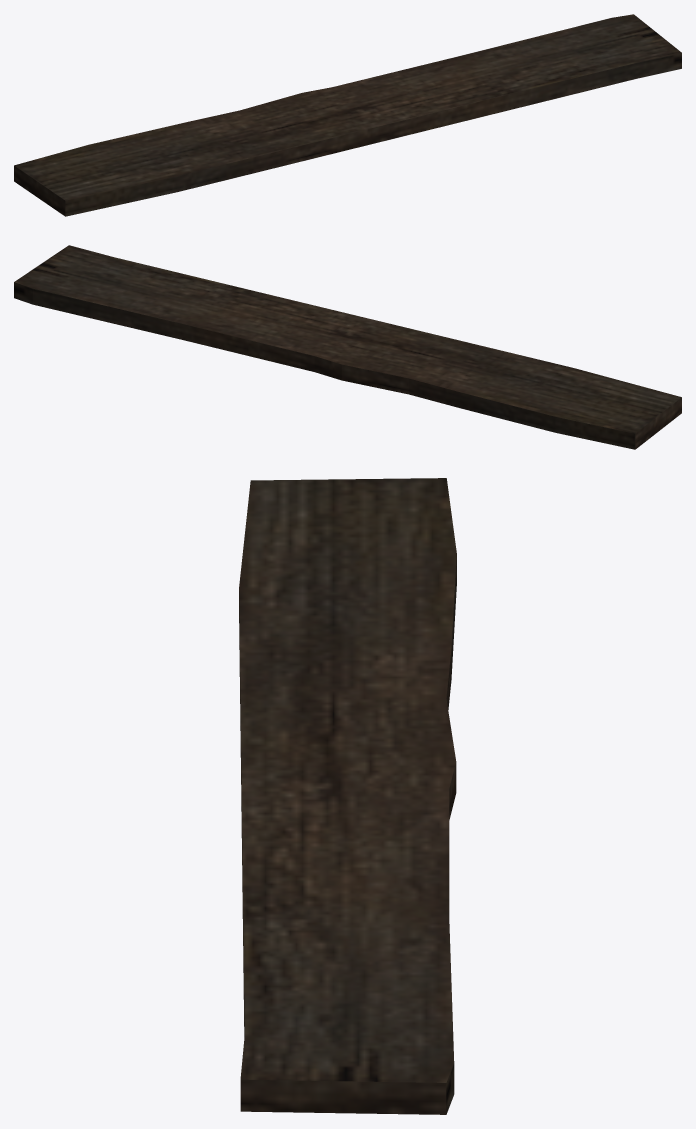
File: wooden_plank_2.fbx
3 views of the same model, one above another, from view 1: azimuth 30°, elevation 25°; view 2: azimuth 150°, elevation 25°; view 3: azimuth 270°, elevation 25° (orthographic). The views are drawn at different scales.
Parts seen in each view (by area): view 1: wooden_plank_2; view 2: wooden_plank_2; view 3: wooden_plank_2.
Part boxes in pixels (bbox=[...]): wooden_plank_2: bbox=[14, 14, 681, 216]; wooden_plank_2: bbox=[14, 245, 681, 449]; wooden_plank_2: bbox=[239, 478, 456, 1114].
Bounding box in the file's own units: 1.22 × 0.1853 × 0.03.
